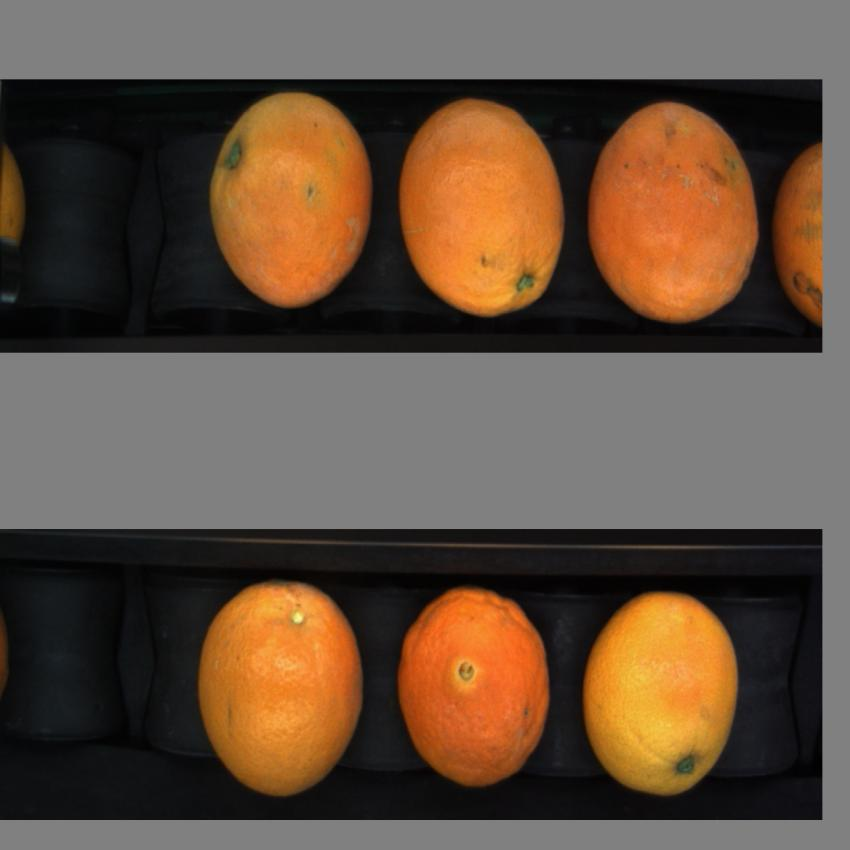Buen estado: (396, 87, 574, 327), (584, 89, 764, 325), (195, 562, 366, 804), (207, 87, 379, 322), (576, 574, 747, 798), (770, 118, 822, 324)
Mal estado: (394, 573, 554, 792)
